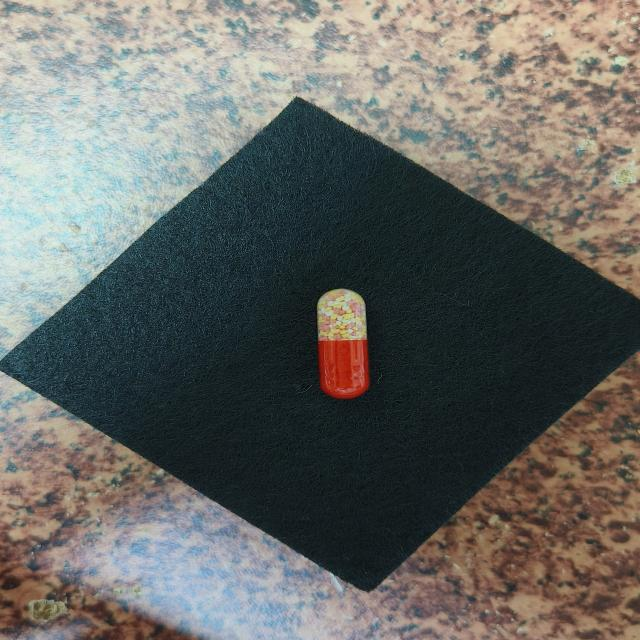Intact Capsule: (317, 288, 369, 399)
